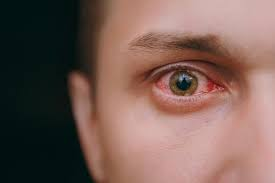pupil: (170, 70, 198, 96)
